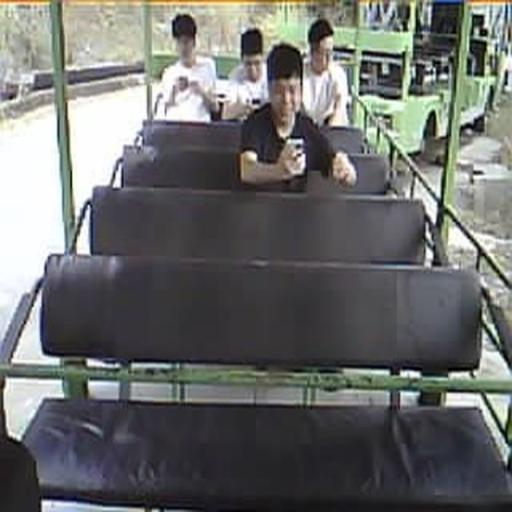persona: (238, 42, 358, 191), (153, 12, 220, 122), (300, 18, 350, 128), (223, 27, 270, 121)
